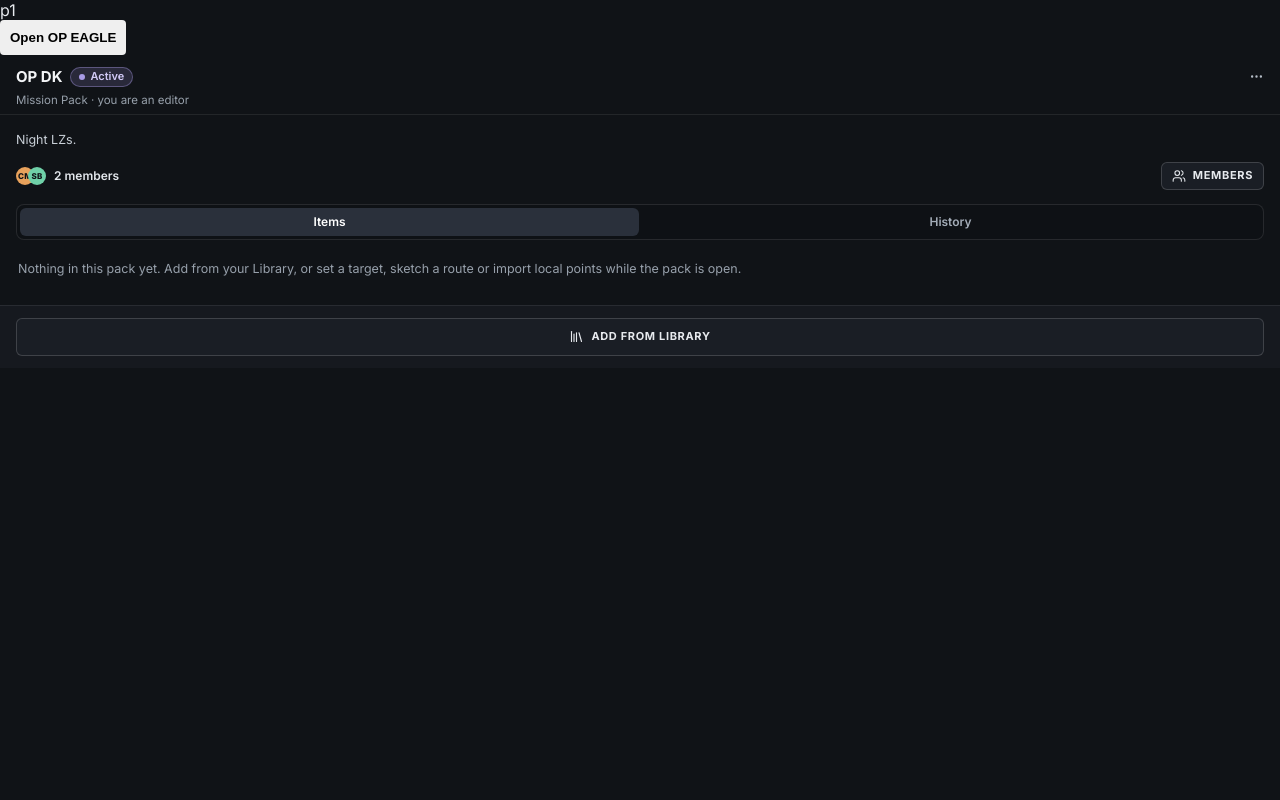
Test case: leaving the pack › asks, leaves, and goes back to the Library with the list asked again
This screenshot has width=1280, height=800.
Click the button named "More actions for OP DK" at (1256, 76), box [1242,62,1270,90]
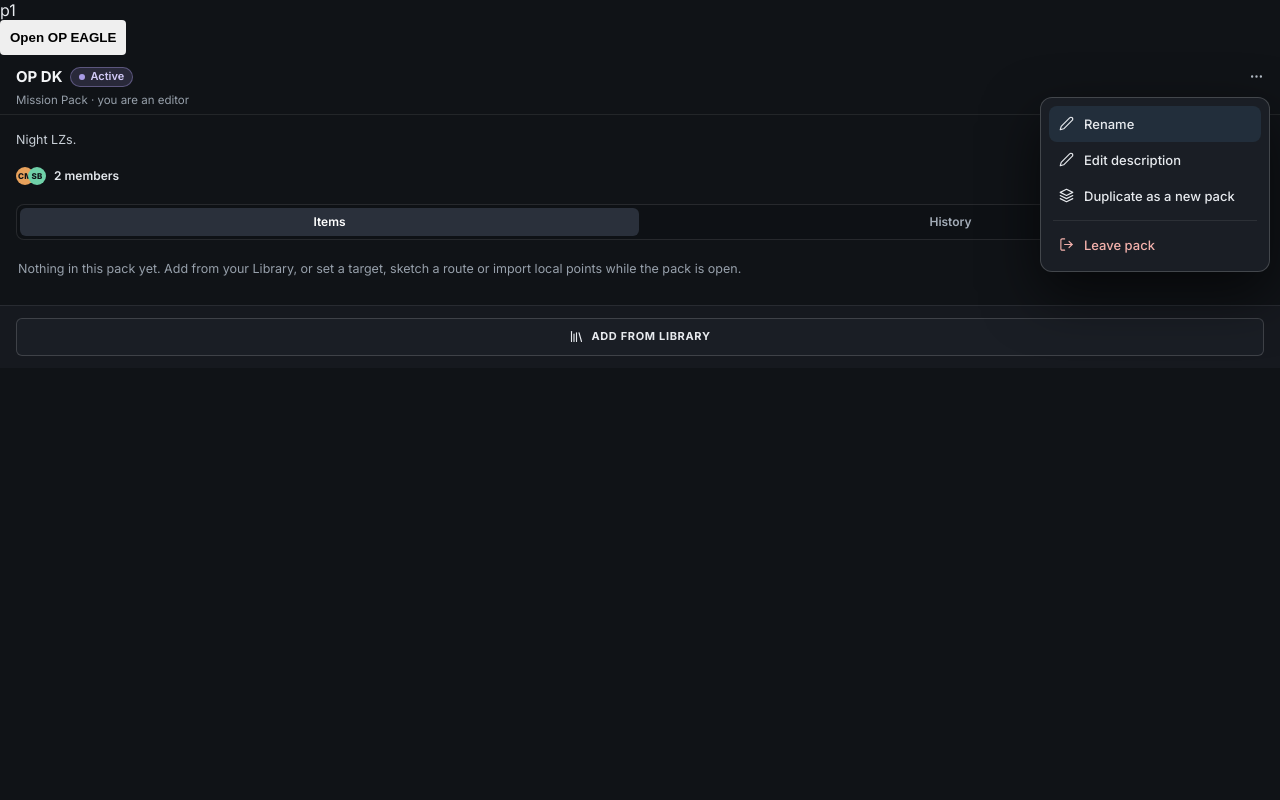
Click the menu item "Leave pack" at (1155, 244), box [1049,226,1261,262]
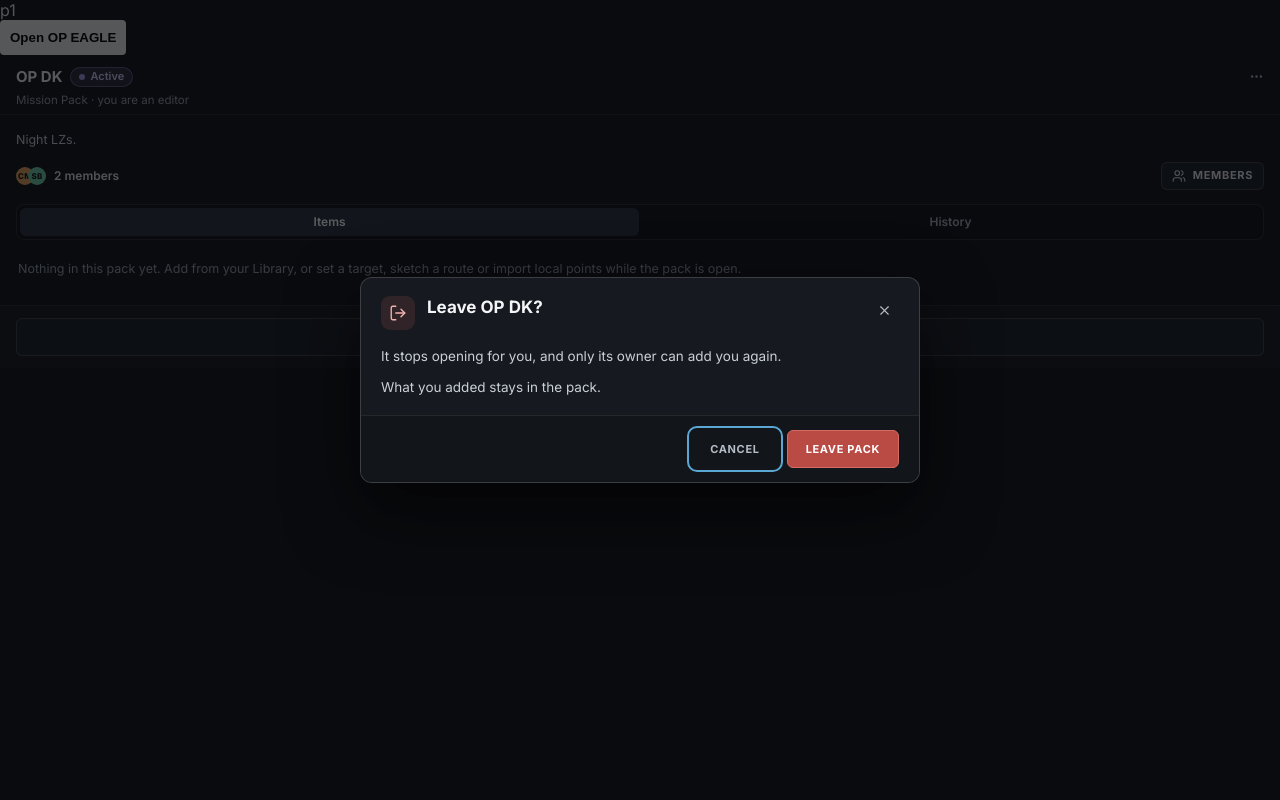
Expected: the text "It stops opening for you, and only its owner can add you again." is shown, [381,348,781,364]
Click the button "Leave pack" at (843, 449), box [787,430,899,468]
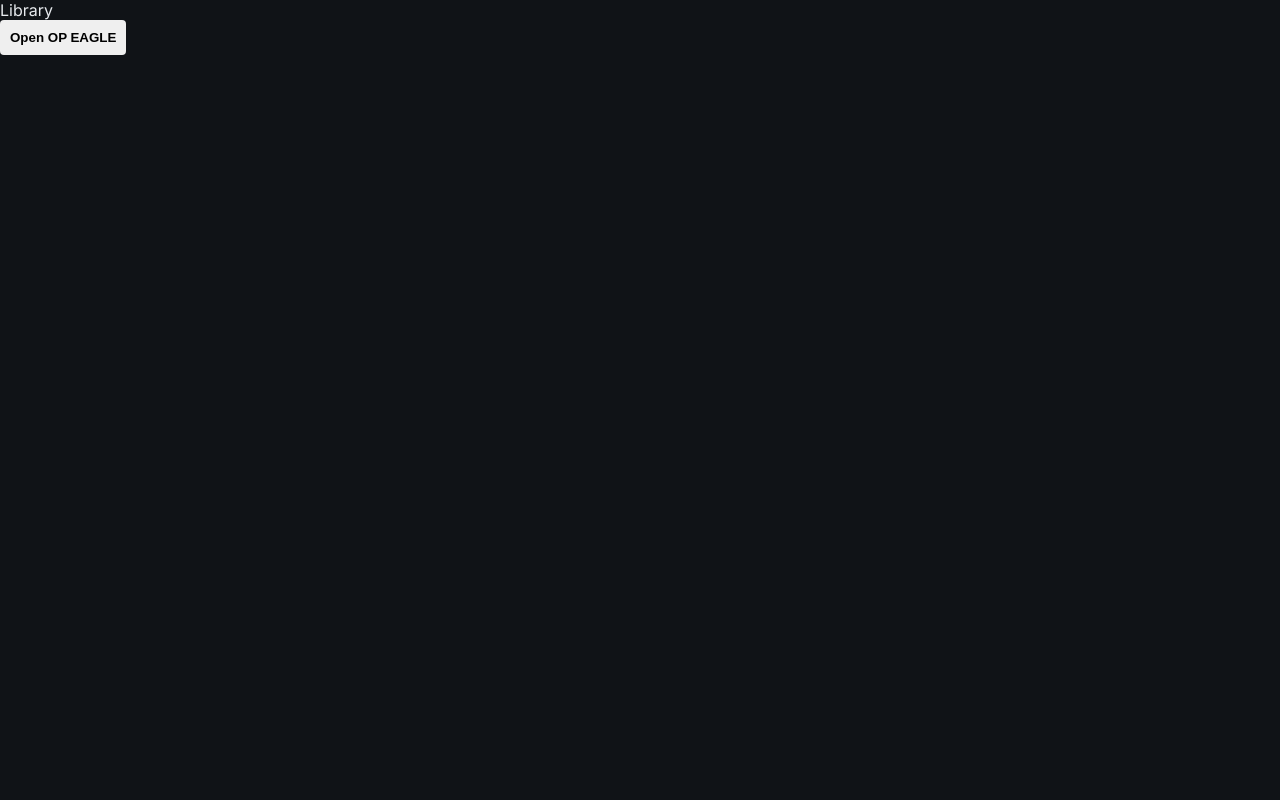
Expected: the text with test id "workspace" reads "Library", [0,0,53,20]
